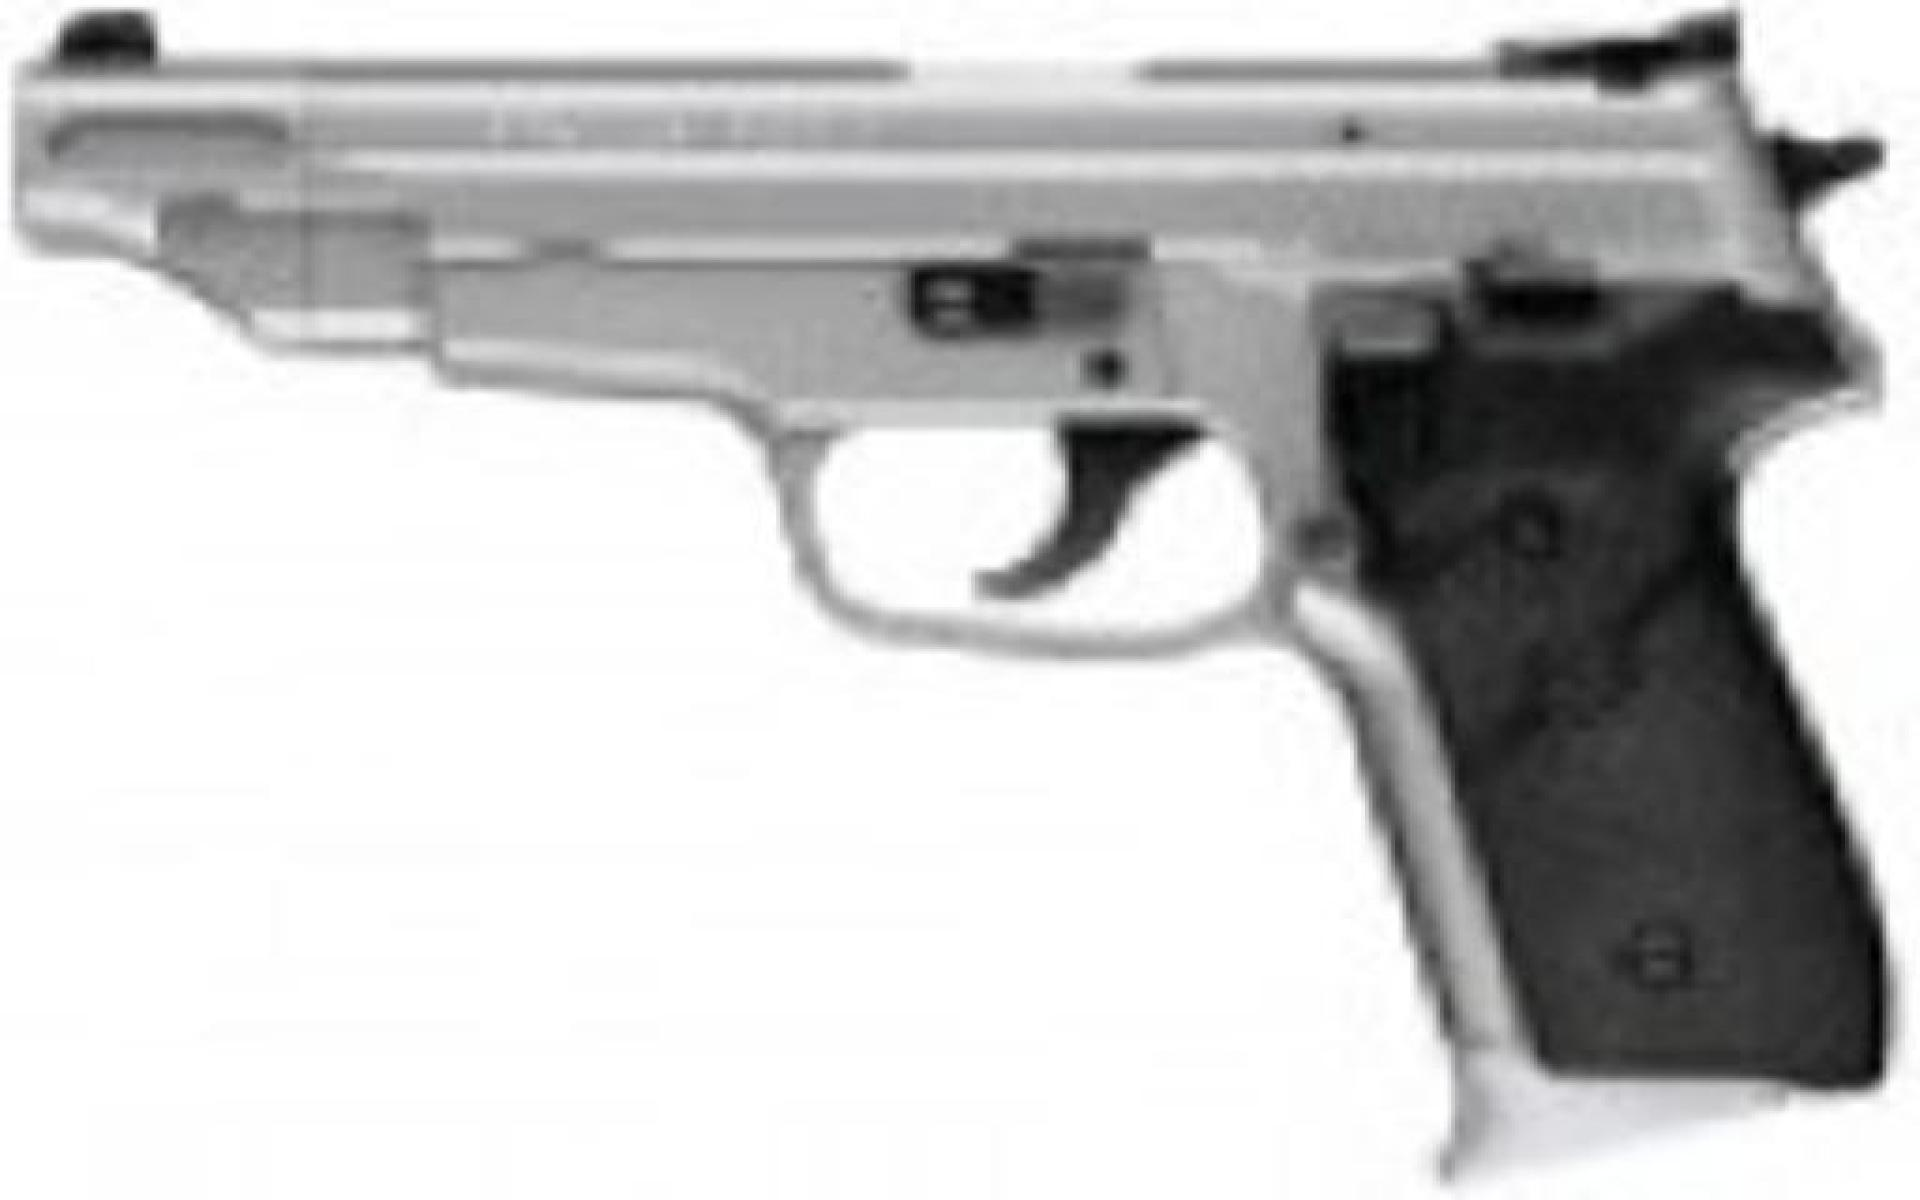gun: (30, 7, 1890, 1167)
